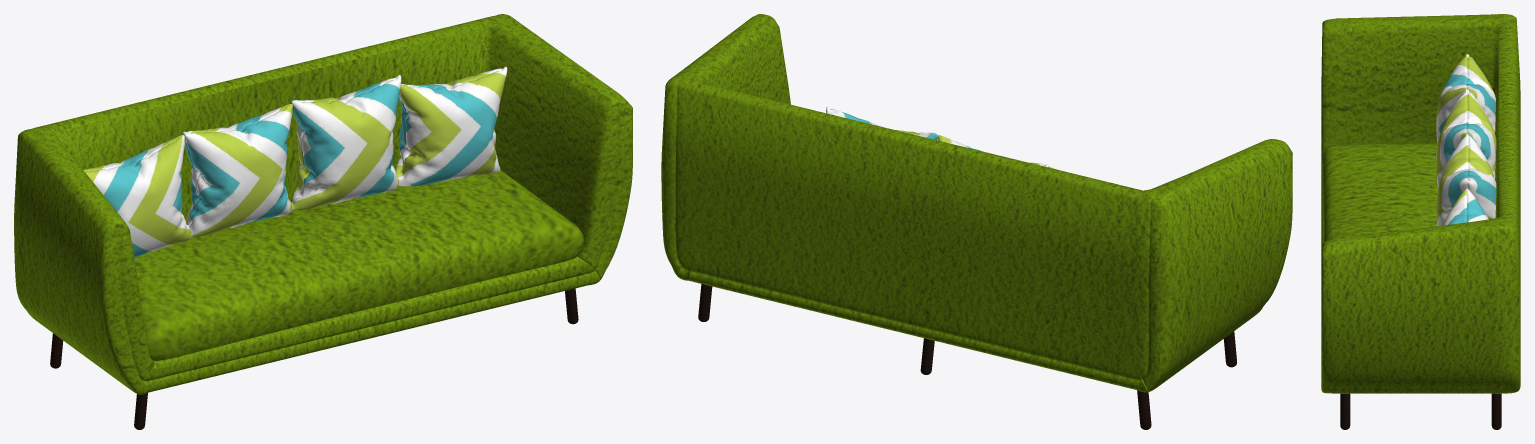
3 renders of one model, left to right at view 1: azimuth 30°, elevation 25°; view 2: azimuth 150°, elevation 25°; view 3: azimuth 270°, elevation 25°, orthographic. The views are drawn at different scales.
Visible parts, largest first — view 1: couch, seat, pillow_03_geo, Legs_03_geo; view 2: couch, Legs_03_geo, pillow_03_geo; view 3: couch, seat, pillow_03_geo, Legs_03_geo.
Boxes of the visible parts, x1,y1,x2,y2 form: couch: (14, 14, 632, 394); seat: (134, 170, 583, 360); pillow_03_geo: (83, 66, 507, 257); Legs_03_geo: (50, 288, 578, 429); couch: (661, 14, 1292, 392); Legs_03_geo: (698, 284, 1236, 429); pillow_03_geo: (826, 107, 1054, 168); couch: (1321, 14, 1520, 393); seat: (1322, 143, 1438, 242); pillow_03_geo: (1436, 54, 1496, 226); Legs_03_geo: (1340, 393, 1501, 429).
Size of the model in its own units: 2.09 by 0.8926 by 0.7535.
Materials: 4 (3 with a texture image).
